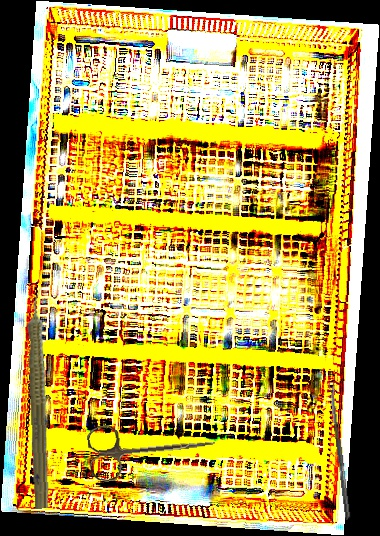Handpiece: (23, 283, 58, 509)
Iris Scissors: (86, 412, 218, 484)
Surgical Spoon: (328, 382, 352, 520)
